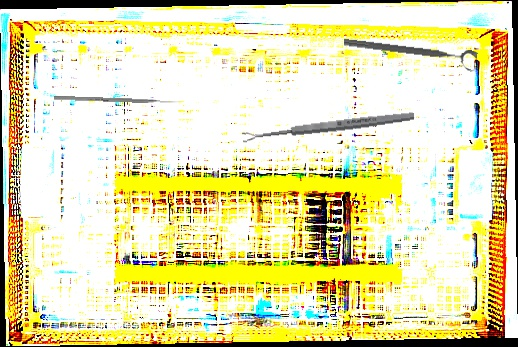Fixation Ring: (342, 34, 478, 74)
Pusher: (53, 95, 182, 105)
Surgical Spoon: (241, 110, 415, 143)
